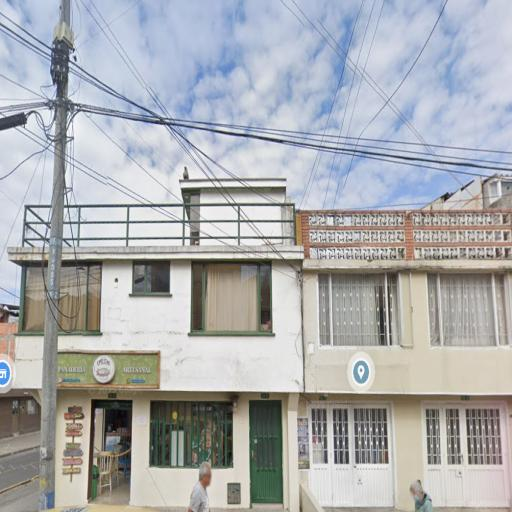Casa: (9, 173, 306, 512), (296, 204, 512, 512)
postes: (36, 0, 78, 512)
